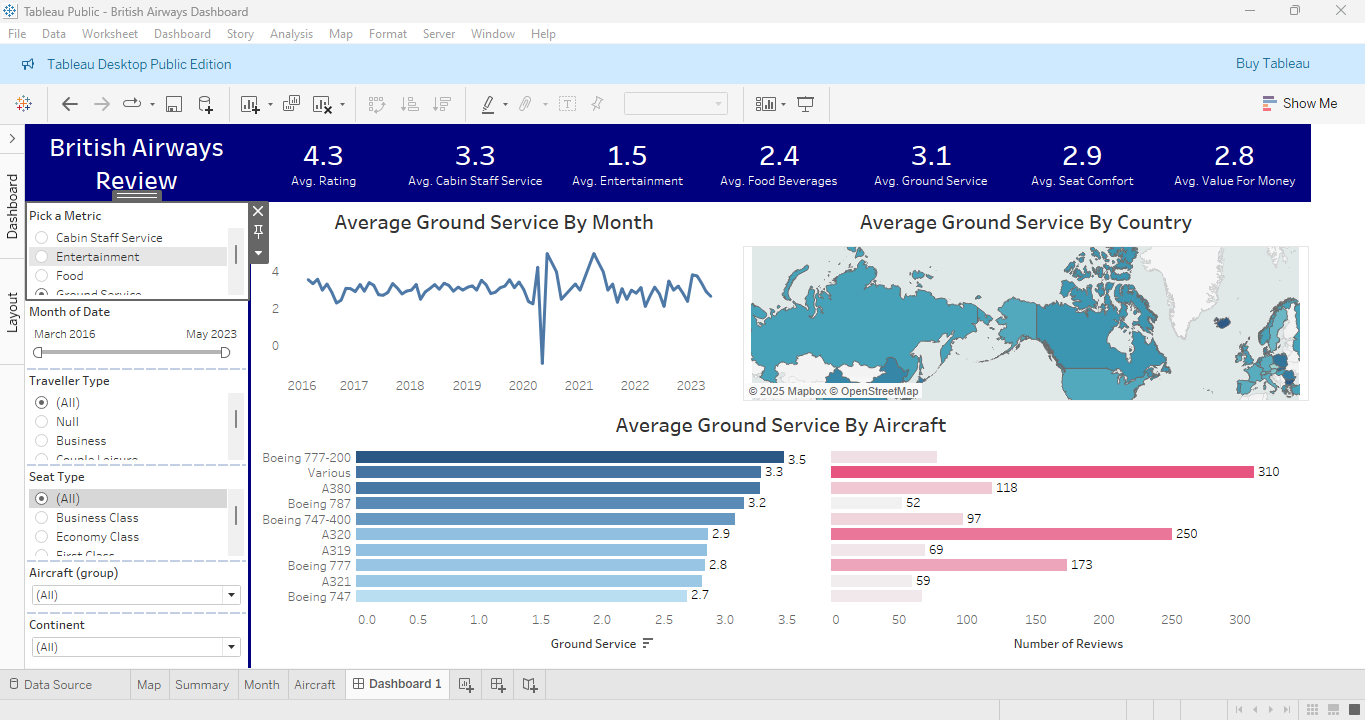

The page's visual inventory and layout, read from the dashboard file:
{"tool":"tableau","page":{"name":"Dashboard 1","canvas":[1200,700],"ordinal":0},"visuals":[{"type":"text","box":[0,0,200,100]},{"type":"worksheet","title":"Summary","mark":"Automatic","box":[200,0,952,100]},{"type":"blank","box":[200,100,3,600]},{"type":"parameter","param":"[Parameters].[Parameter 1]","box":[0,102,200,127]},{"type":"worksheet","title":"Month","mark":"Automatic","rows":["Calculation_2166794375982059521"],"cols":["date"],"box":[207,102,426,253]},{"type":"worksheet","title":"Map","mark":"Automatic","box":[643,102,507,255]},{"type":"filter","title":"Map","param":"[federated.18mjiz0195zkt315jjxog0e8ct5d].[tmn:date:qk]","box":[0,229,200,69]},{"type":"filter","title":"Map","param":"[federated.18mjiz0195zkt315jjxog0e8ct5d].[none:traveller_type:nk]","box":[0,298,200,146]},{"type":"worksheet","title":"Aircraft","mark":"Automatic","cols":["Calculation_2166794375982059521","ba_reviews.csv_5117B4D593854F4CA2C0C3A54E3058B9"],"box":[207,363,940,326]},{"type":"filter","title":"Map","param":"[federated.18mjiz0195zkt315jjxog0e8ct5d].[none:seat_type:nk]","box":[0,444,200,127]},{"type":"filter","title":"Map","param":"[federated.18mjiz0195zkt315jjxog0e8ct5d].[Aircraft (group)]","box":[0,571,200,52]},{"type":"filter","title":"Map","param":"[federated.18mjiz0195zkt315jjxog0e8ct5d].[none:Continent:nk]","box":[0,623,200,52]}]}

Visuals, with their boxes on the page's 1200x700 design canvas (x1, y1, x2, y2). These are canvas units, not pixel positions in the 1365x720 screenshot, which may show the page scaled, cropped or inside an application window:
text: crop(0, 0, 200, 100)
"Summary" worksheet: crop(200, 0, 1152, 100)
blank: crop(200, 100, 203, 700)
parameter: crop(0, 102, 200, 229)
"Month" worksheet: crop(207, 102, 633, 355)
"Map" worksheet: crop(643, 102, 1150, 357)
"Map" filter: crop(0, 229, 200, 298)
"Map" filter: crop(0, 298, 200, 444)
"Aircraft" worksheet: crop(207, 363, 1147, 689)
"Map" filter: crop(0, 444, 200, 571)
"Map" filter: crop(0, 571, 200, 623)
"Map" filter: crop(0, 623, 200, 675)
